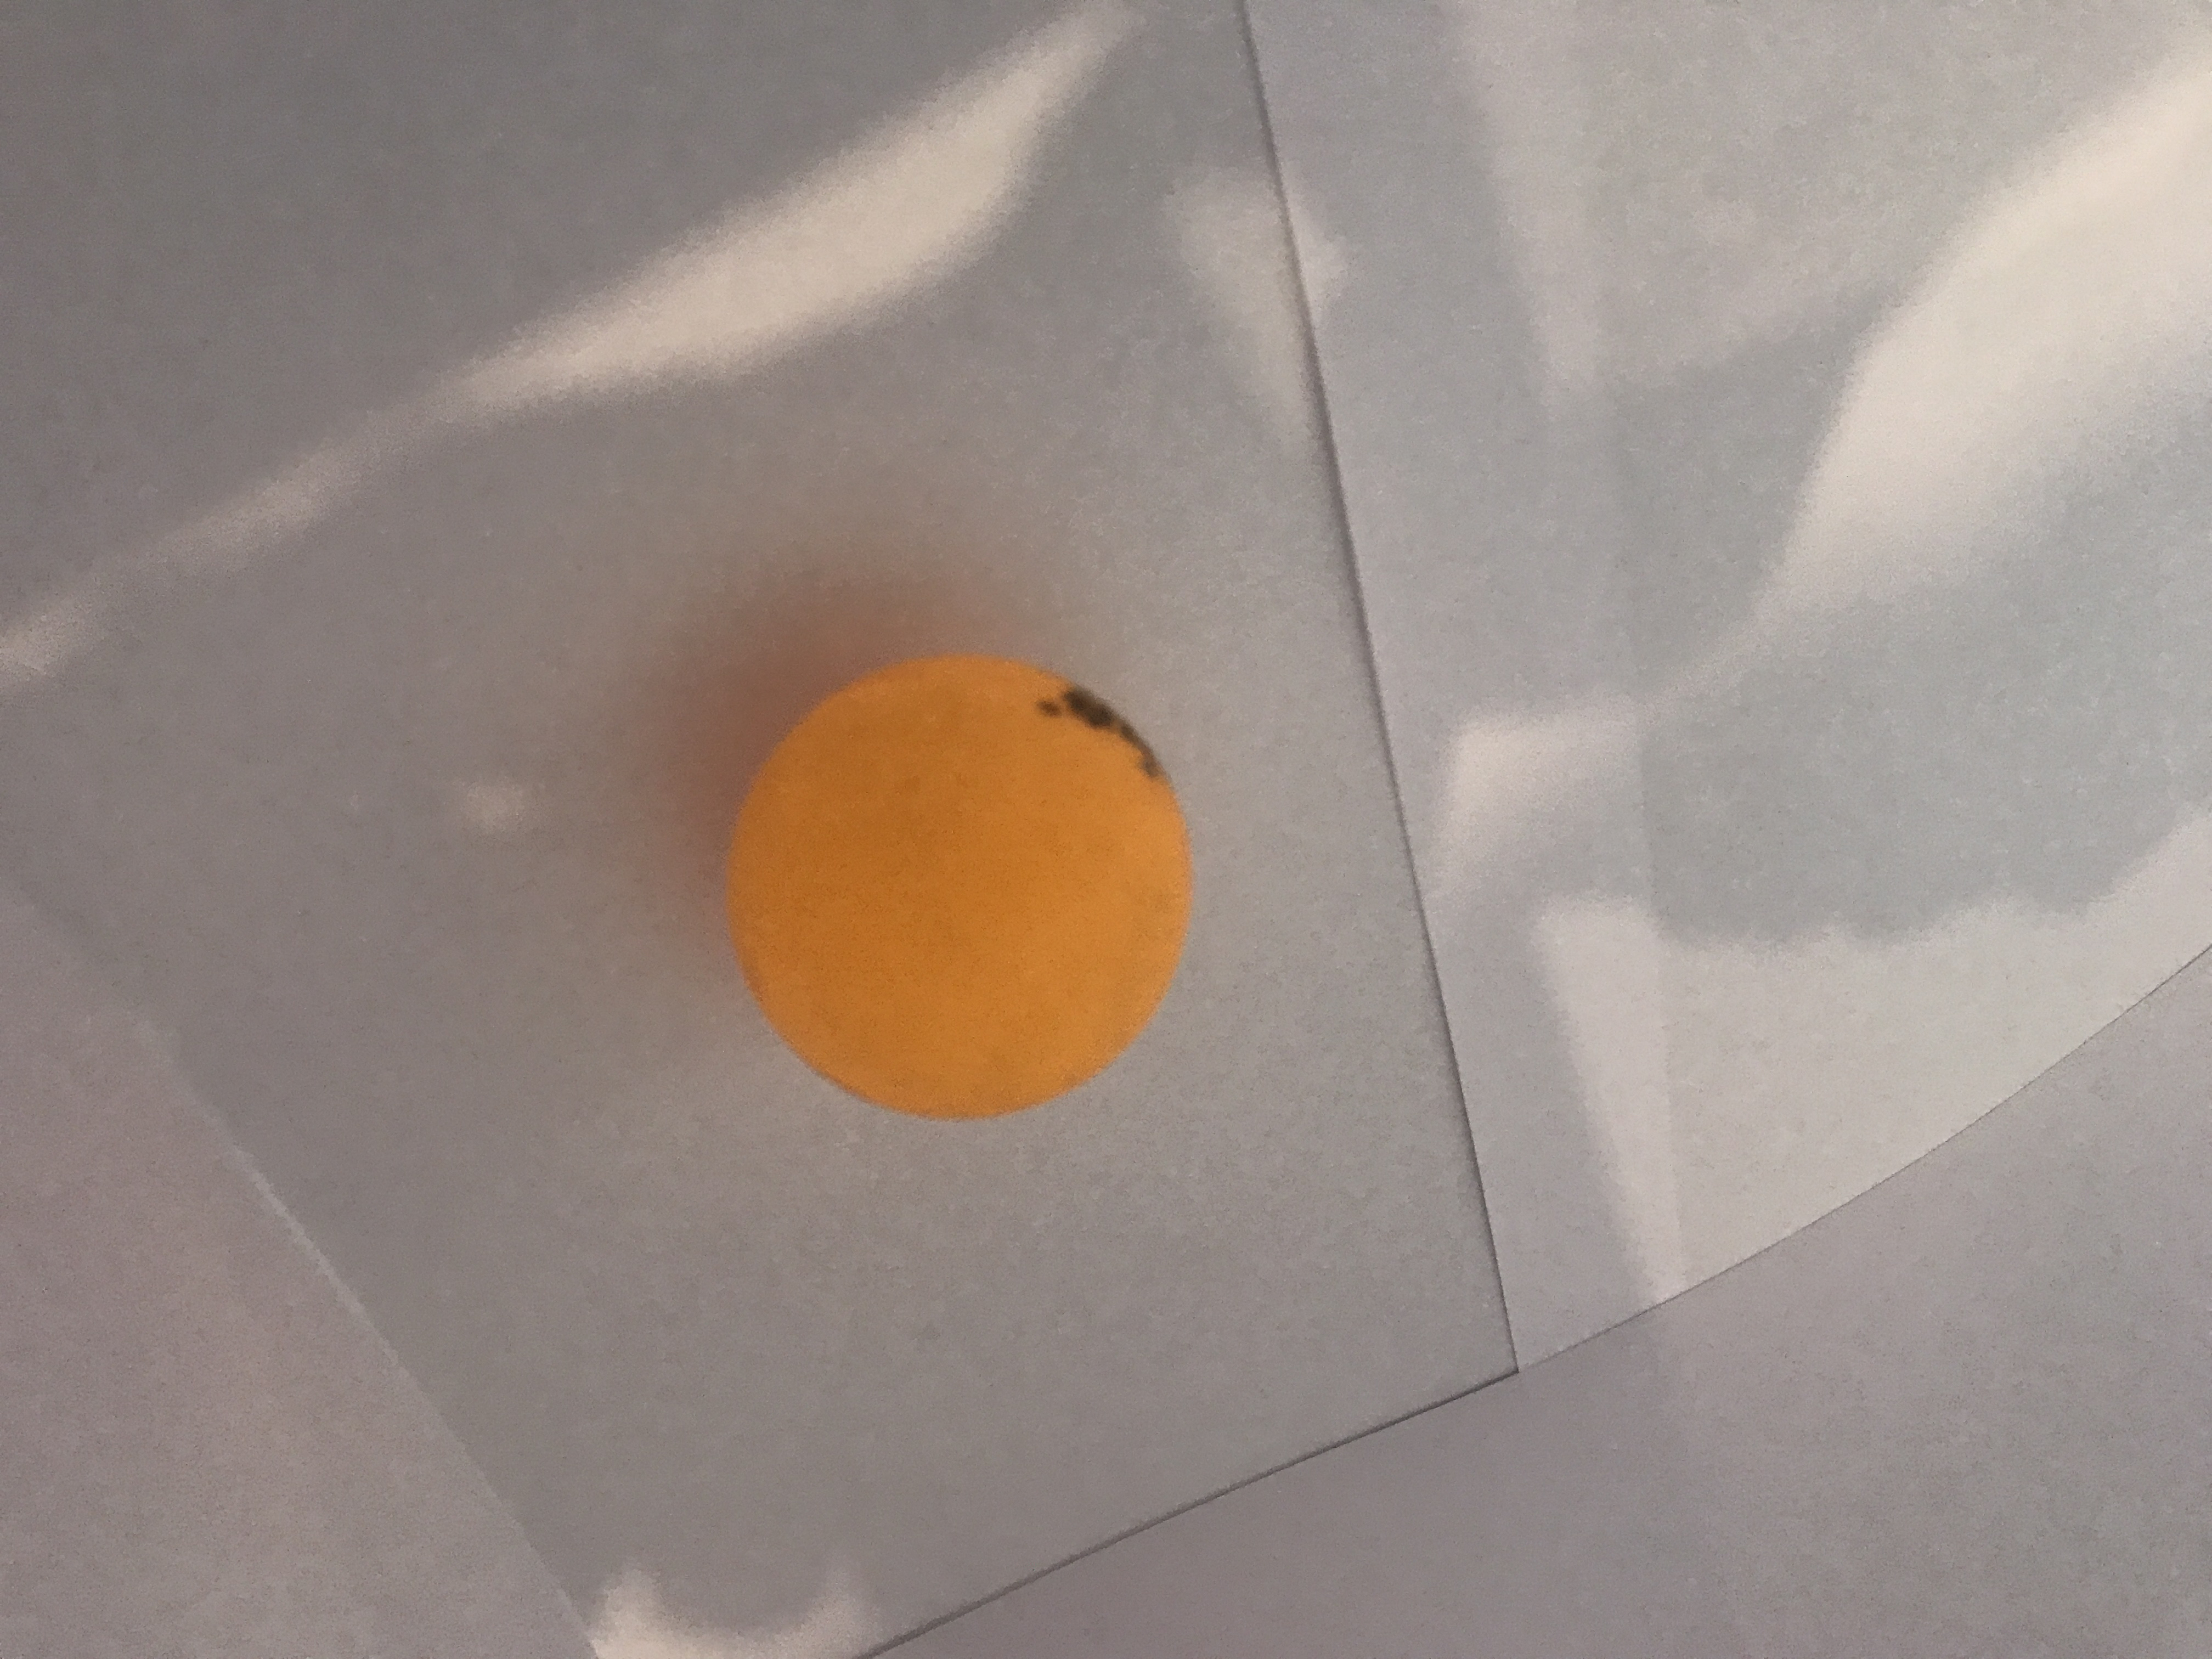pp: (721, 647, 1197, 1127)
